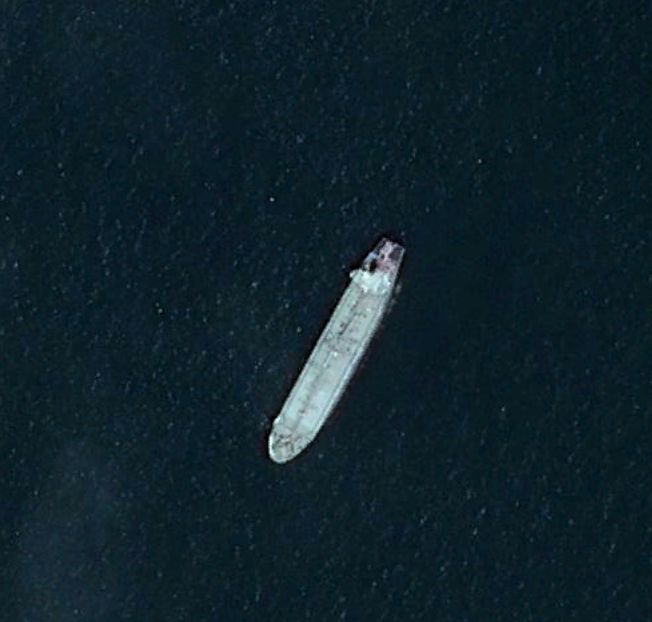boat: (268, 236, 407, 466)
